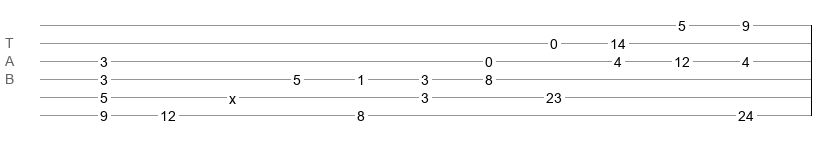0: (485, 54, 493, 64), (550, 36, 558, 46)
1: (357, 72, 365, 82)
12: (160, 108, 176, 118), (674, 54, 690, 64)
14: (610, 36, 626, 46)
23: (546, 90, 562, 100)
24: (738, 108, 754, 118)
3: (100, 54, 108, 64), (100, 72, 108, 82), (421, 72, 429, 82), (421, 90, 429, 100)
4: (614, 54, 622, 64), (742, 54, 750, 64)
5: (100, 90, 108, 100), (293, 72, 301, 82), (678, 18, 686, 28)
8: (357, 108, 365, 118), (485, 72, 493, 82)
9: (100, 108, 108, 118), (742, 18, 750, 28)
x: (229, 91, 236, 99)
